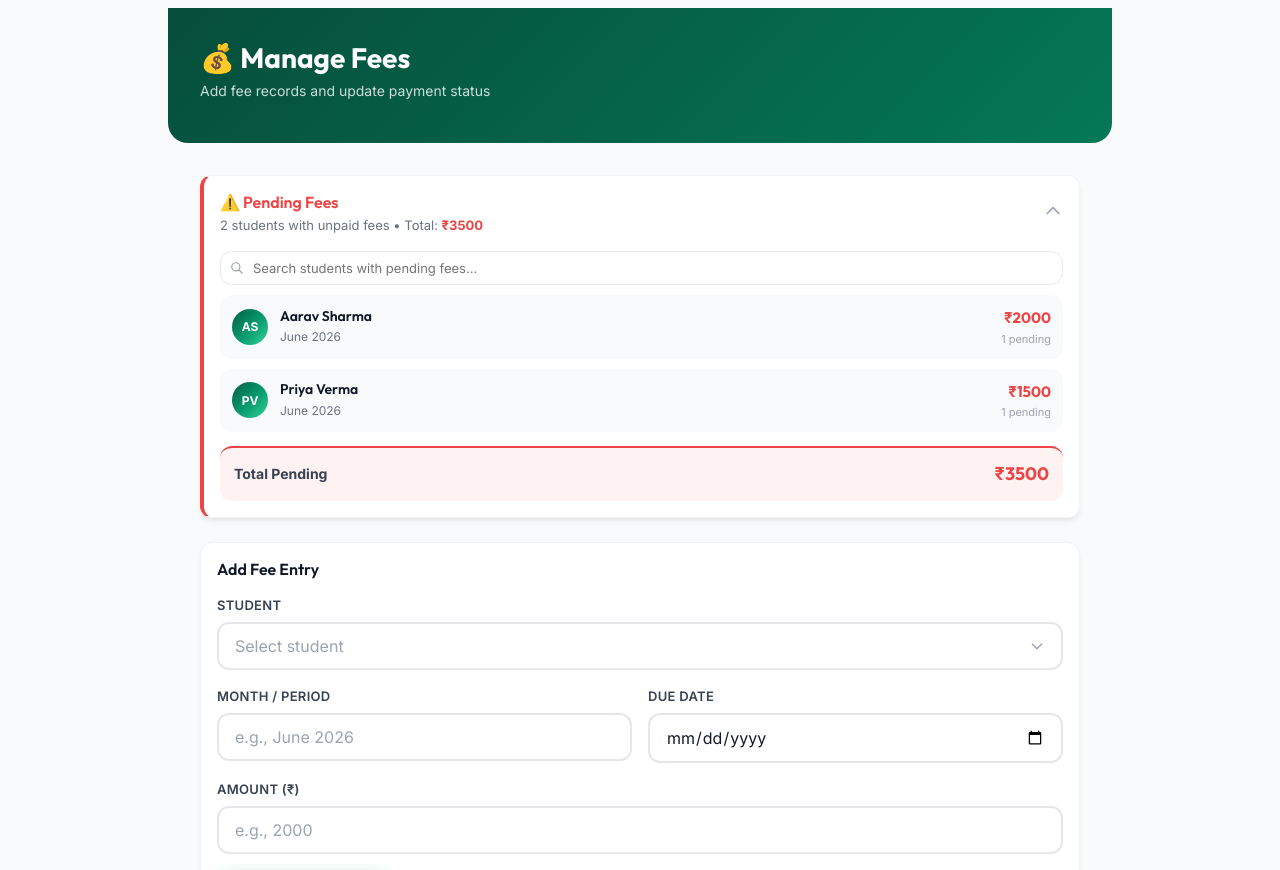
Test: FeeForm — search inside the student picker › typing narrows the options
This screenshot has width=1280, height=870.
Expected: the heading "Add Fee Entry" is shown, [217,558,319,578]
Click the button with id "fee-student": (289, 646) [217,622,1063,670]
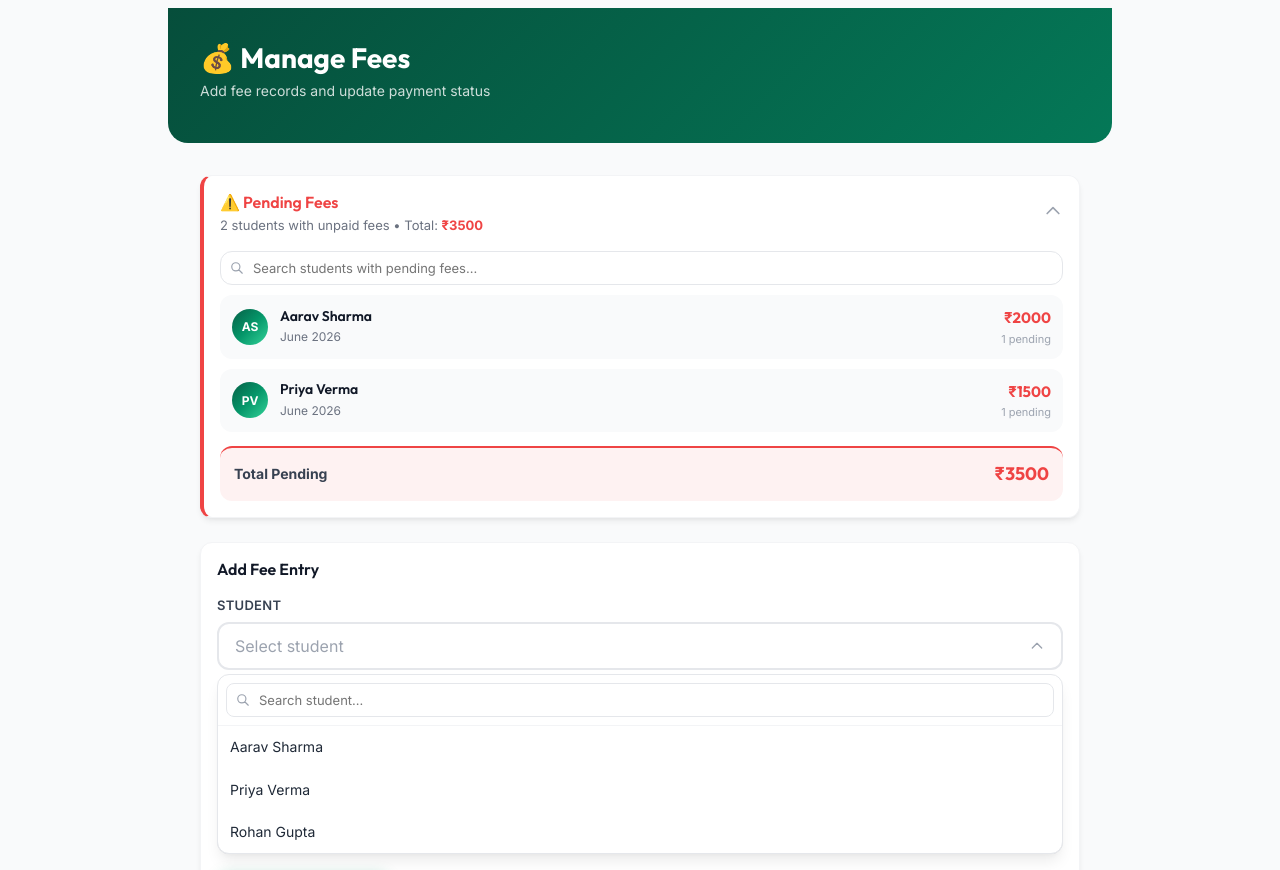
In the field with placeholder "Search student...": (640, 700) [226,683,1054,717], type "rohan"
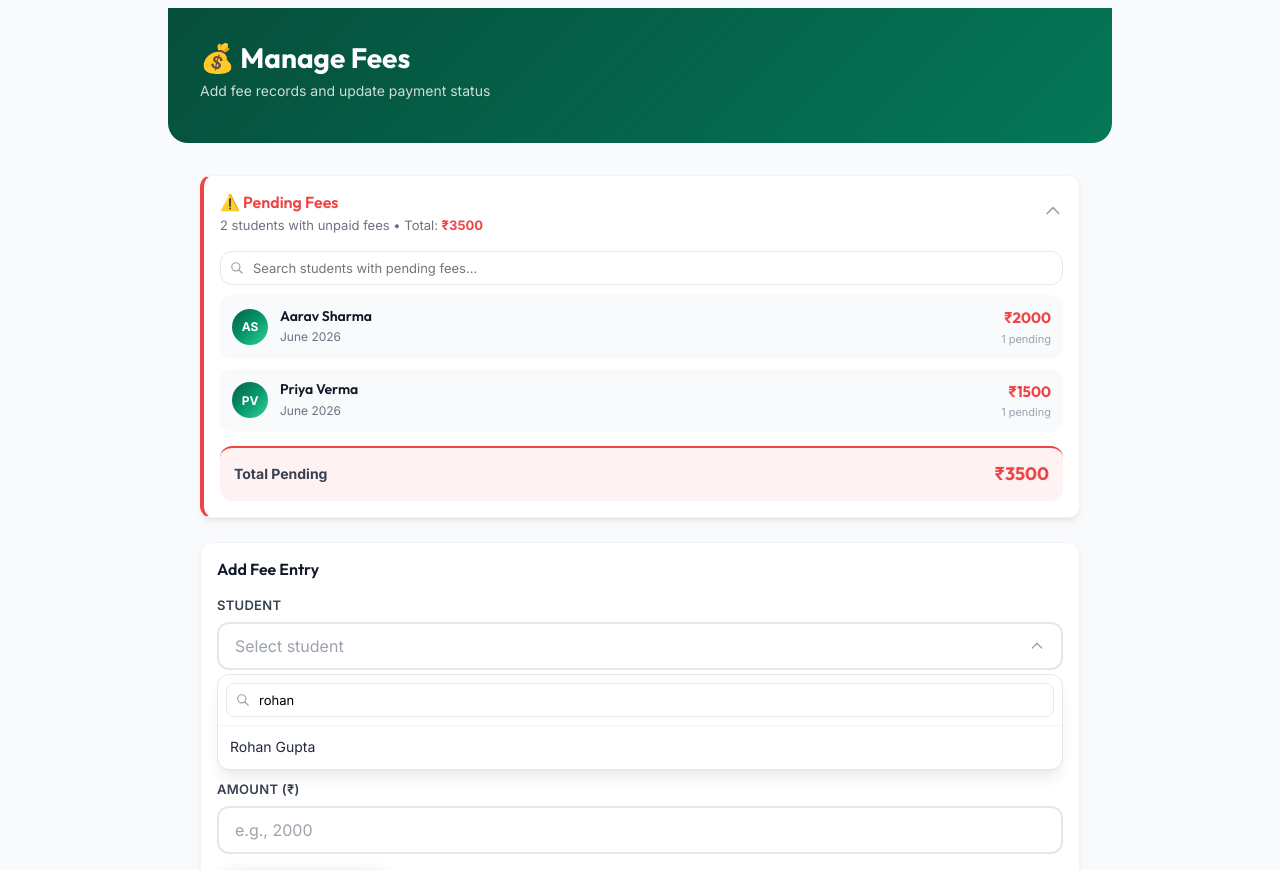
Now the option reads "Rohan Gupta", box [230,738,315,755]
Now the number of options is 1, box [230,738,315,755]
